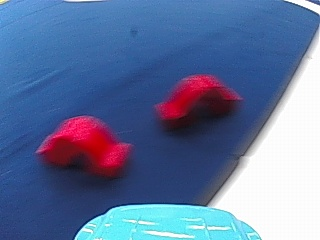bridge: (33, 109, 138, 176), (149, 68, 245, 132)
